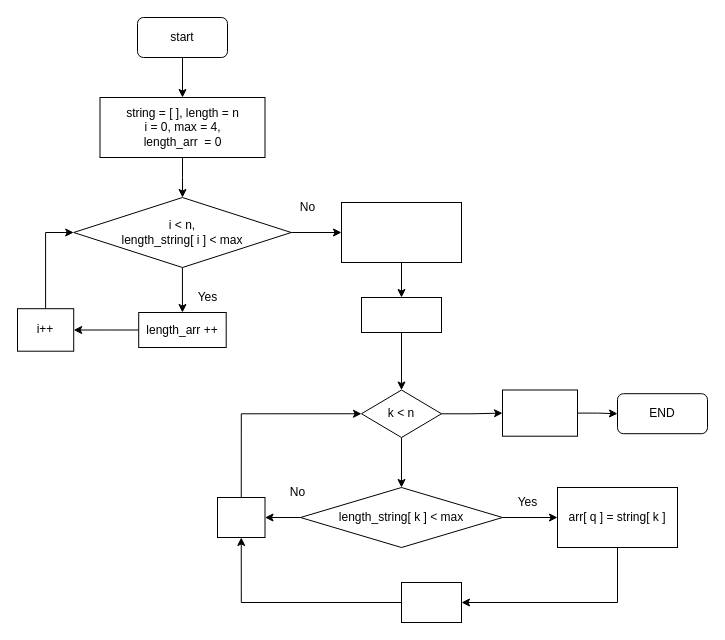
This 725x640 diagram has some shape labels left out. Each missing label, with the centre of its shape:
"arr [ ]" belongs at point (540, 412).
"k++" belongs at point (240, 517).
"length_arr" belongs at point (401, 232).
"q = 0, k = 0" belongs at point (401, 314).
"q++" belongs at point (431, 602).
